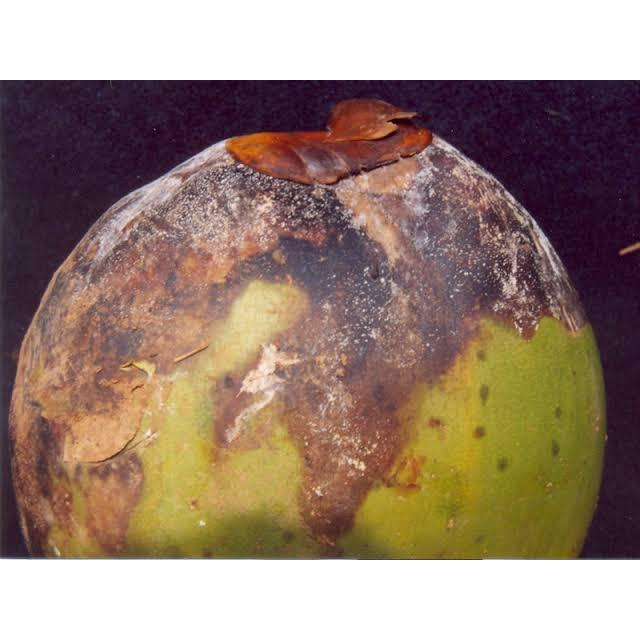damaged: (6, 98, 608, 559)
